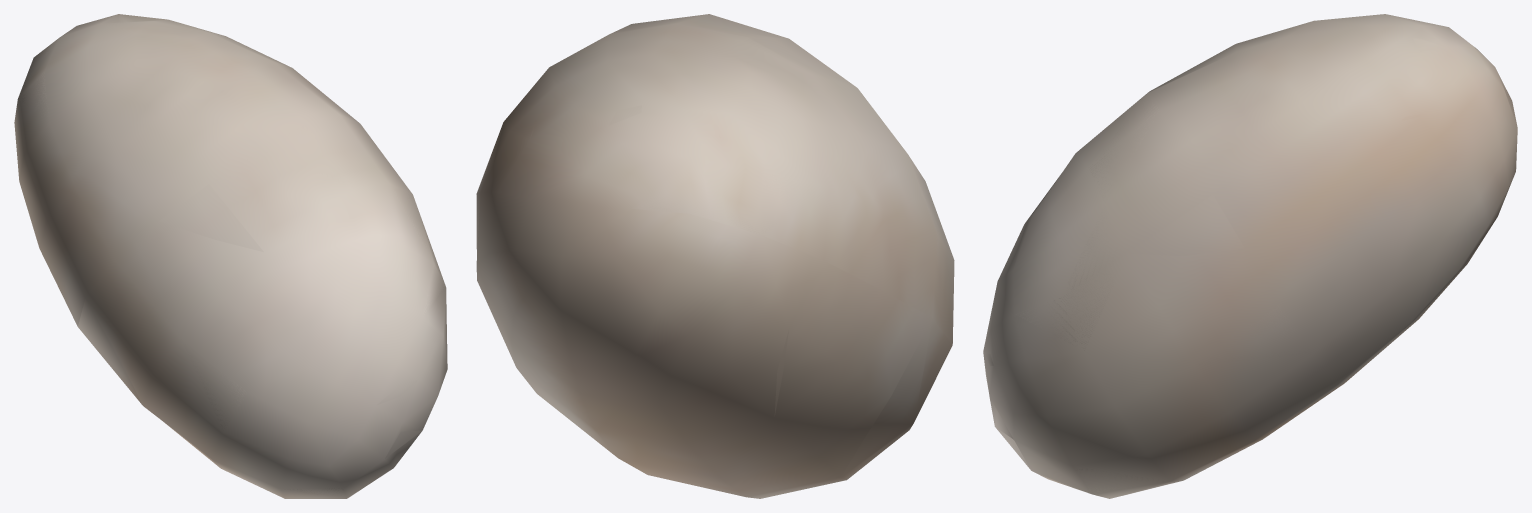
The model's file is Radiale L.fbx.
3 renders of one model, left to right at view 1: azimuth 30°, elevation 25°; view 2: azimuth 150°, elevation 25°; view 3: azimuth 270°, elevation 25°, orthographic. The views are drawn at different scales.
Parts seen in each view (by area): view 1: Radiale L, Radiale L low; view 2: Radiale L, Radiale L low; view 3: Radiale L, Radiale L low.
Boxes of the visible parts, x1,y1,x2,y2 form: Radiale L: (14,14,447,498); Radiale L low: (19,14,443,497); Radiale L: (476,14,954,498); Radiale L low: (530,105,952,476); Radiale L: (983,14,1517,498); Radiale L low: (983,38,1481,493).
Size of the model in its own units: 0.0367 by 0.0441 by 0.0499.
